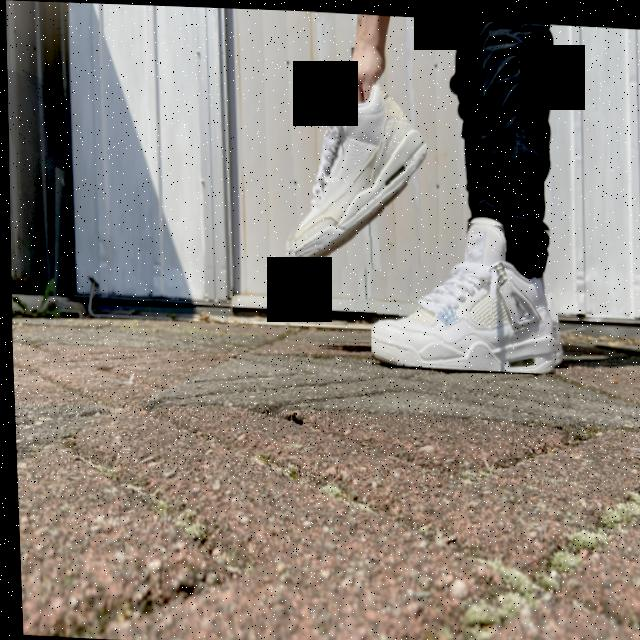shoe: (365, 209, 563, 371), (276, 83, 430, 272)
